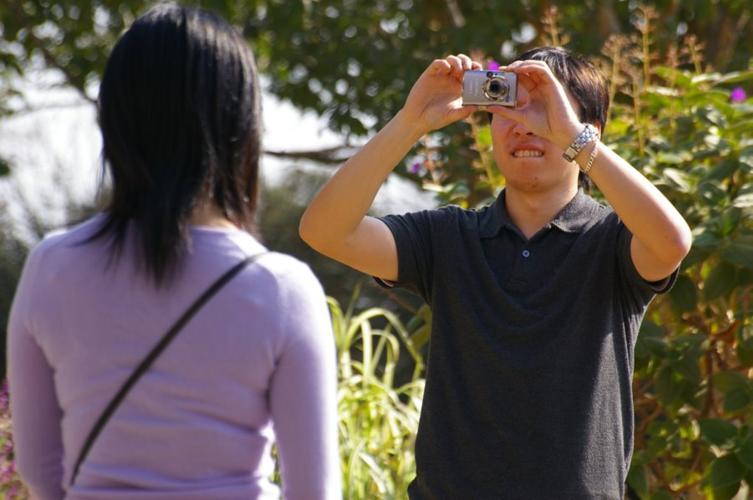person: (298, 45, 695, 498)
